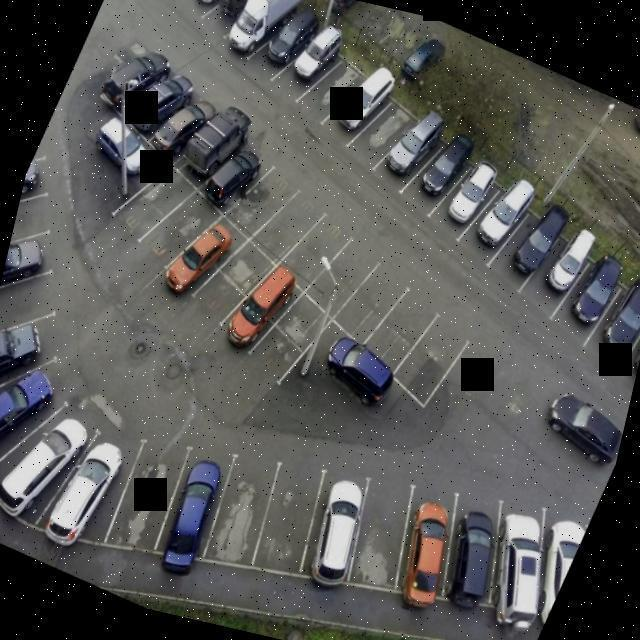space-empty: (182, 435, 306, 590), (320, 458, 446, 602), (231, 445, 346, 588), (98, 428, 200, 566), (351, 270, 444, 385), (133, 178, 226, 281), (188, 230, 278, 335), (301, 224, 386, 330), (330, 245, 411, 354), (384, 309, 471, 406), (247, 170, 327, 273), (252, 289, 331, 391), (276, 200, 354, 300), (0, 255, 65, 366), (221, 159, 297, 246), (346, 100, 423, 174), (296, 54, 372, 128), (5, 188, 65, 274)
space-occupied: (451, 483, 583, 639), (273, 447, 401, 602), (364, 468, 493, 621), (132, 428, 256, 585), (36, 409, 162, 559), (408, 480, 535, 624), (0, 374, 101, 540), (0, 334, 85, 490), (0, 291, 74, 428), (510, 504, 590, 630), (212, 255, 301, 367), (133, 73, 224, 174), (152, 206, 241, 305), (108, 157, 196, 255), (84, 29, 175, 122), (196, 124, 280, 220), (170, 104, 254, 194), (0, 221, 75, 321), (116, 51, 196, 144), (455, 190, 534, 265), (244, 6, 315, 89), (369, 122, 446, 193), (431, 165, 506, 237), (399, 141, 470, 216), (267, 35, 343, 105), (322, 76, 394, 149), (550, 265, 621, 337), (490, 213, 560, 284), (580, 289, 640, 365), (214, 0, 285, 64), (525, 237, 588, 303), (15, 148, 60, 228), (198, 0, 263, 39), (617, 309, 640, 384), (177, 0, 248, 24)
